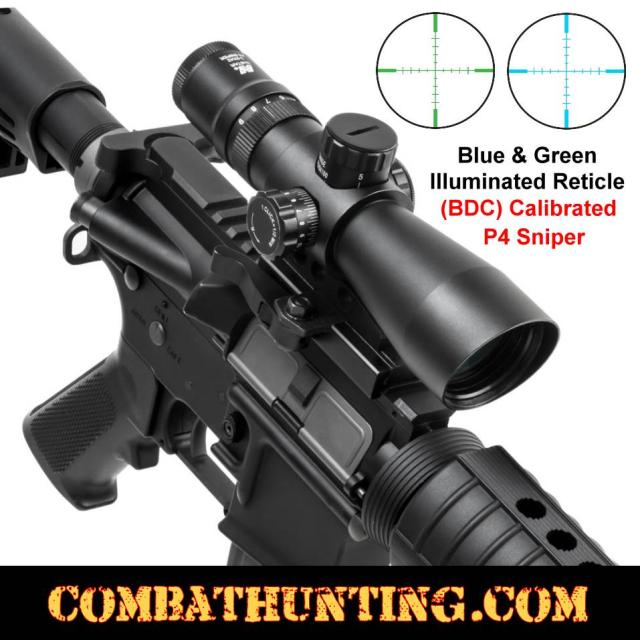Rifle: (0, 6, 611, 570)
